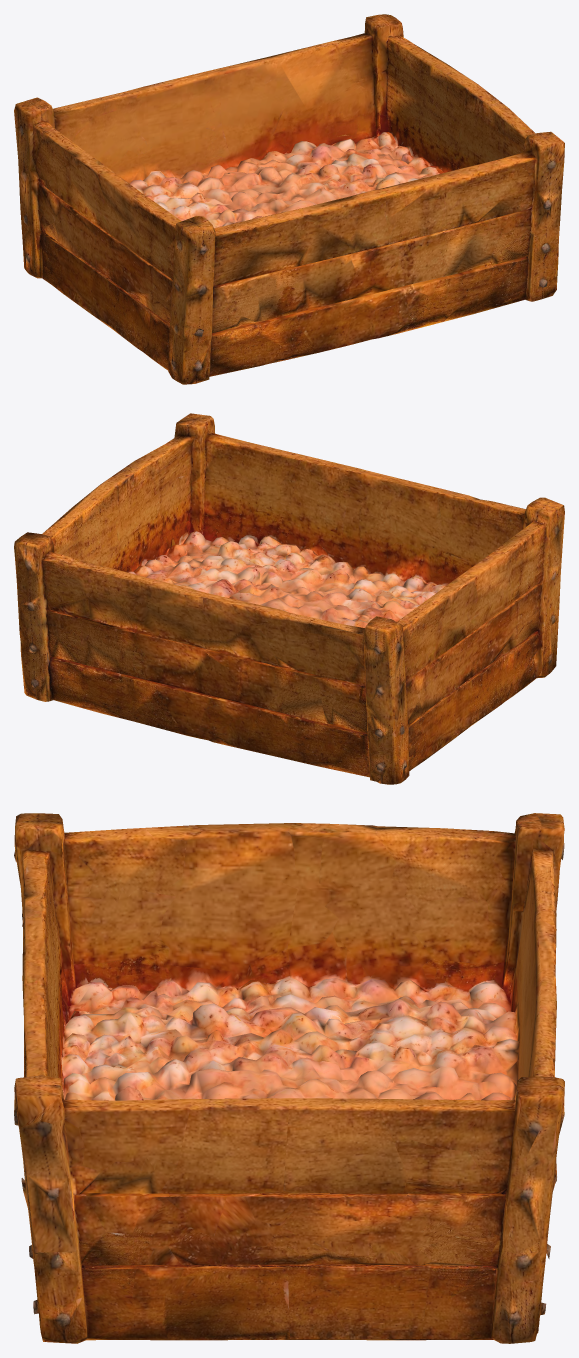
Rendered from rustic-fermentation-v.glb.
3 views of the same model, one above another, from view 1: azimuth 30°, elevation 25°; view 2: azimuth 150°, elevation 25°; view 3: azimuth 270°, elevation 25° (orthographic). The views are drawn at different scales.
Bounding box in the file's own units: 1.9 × 0.781 × 1.54.
1 material, 1 textured.
